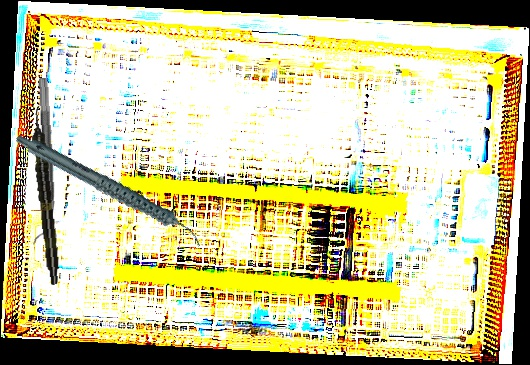Fixation Ring: (24, 77, 58, 250)
Handpiece: (14, 100, 206, 280), (28, 105, 63, 286)
